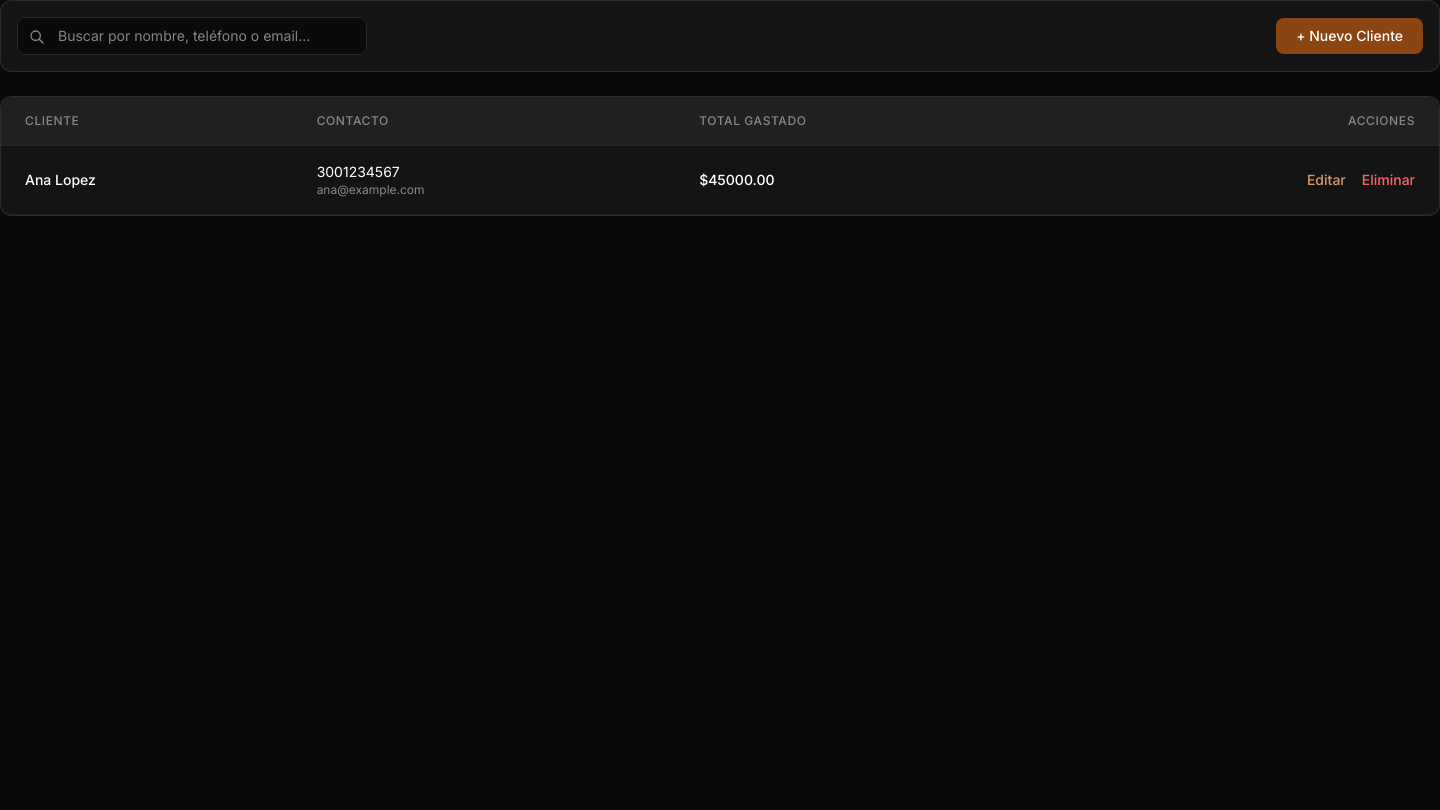
Test: ClientManager › cierra la confirmación inmediatamente después de eliminar
This screenshot has width=1440, height=810.
Click the button "Eliminar".
click(1388, 180)  # box [1362,170,1415,190]
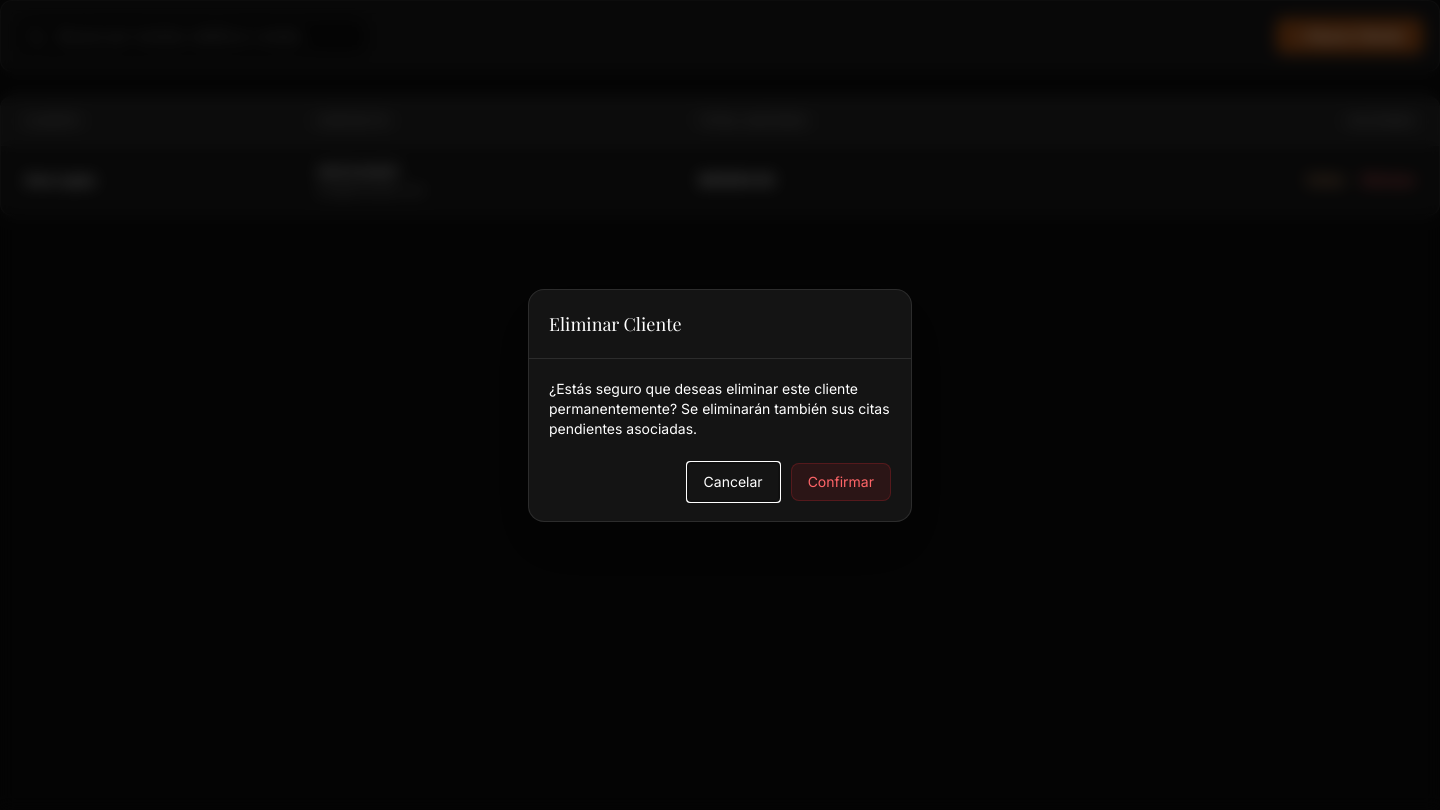
Expected: the dialog "Eliminar Cliente" is shown, [528,288,912,522]
Click the button "Confirmar".
click(841, 482)  # box [791,462,891,500]
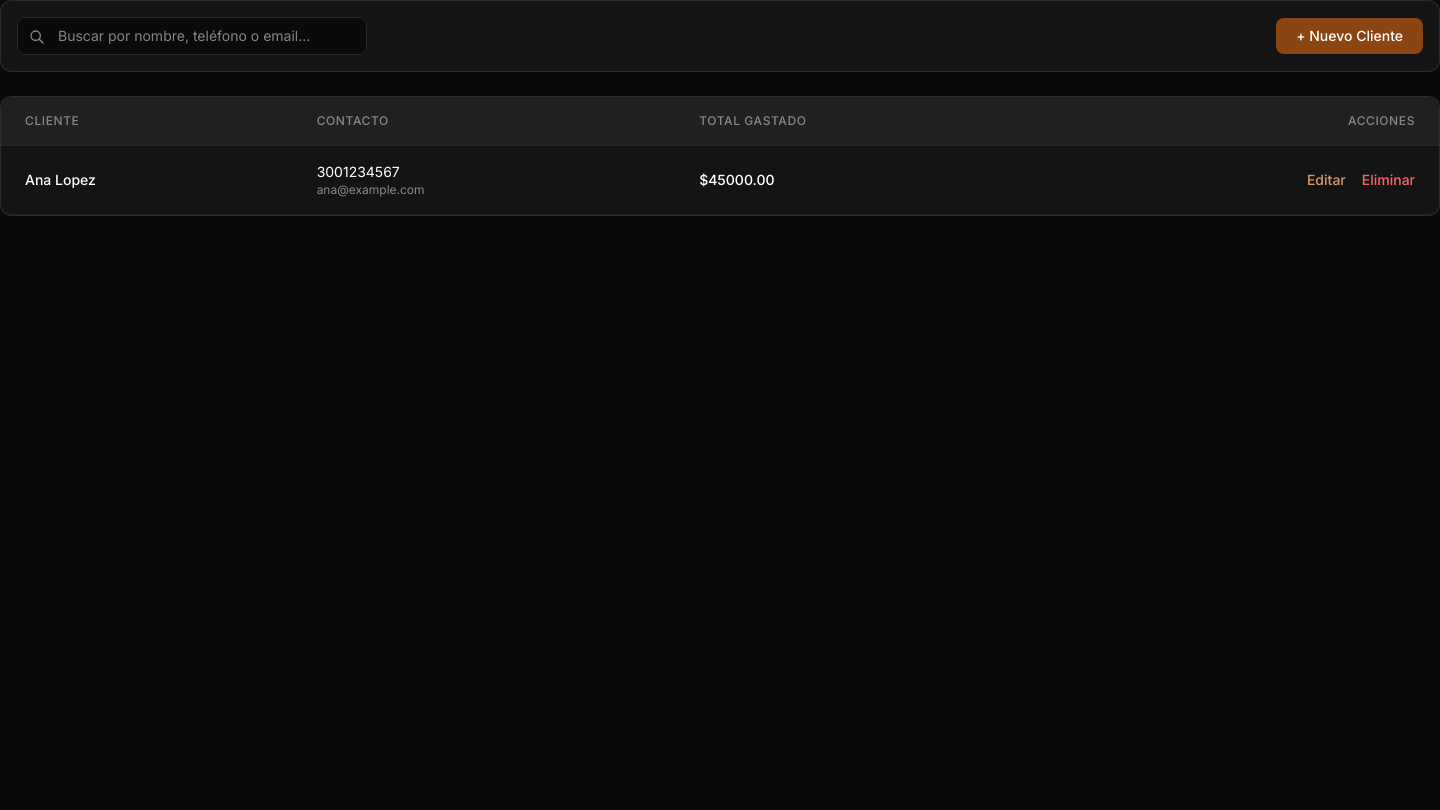
Expected: the heading "Eliminar Cliente" is gone
